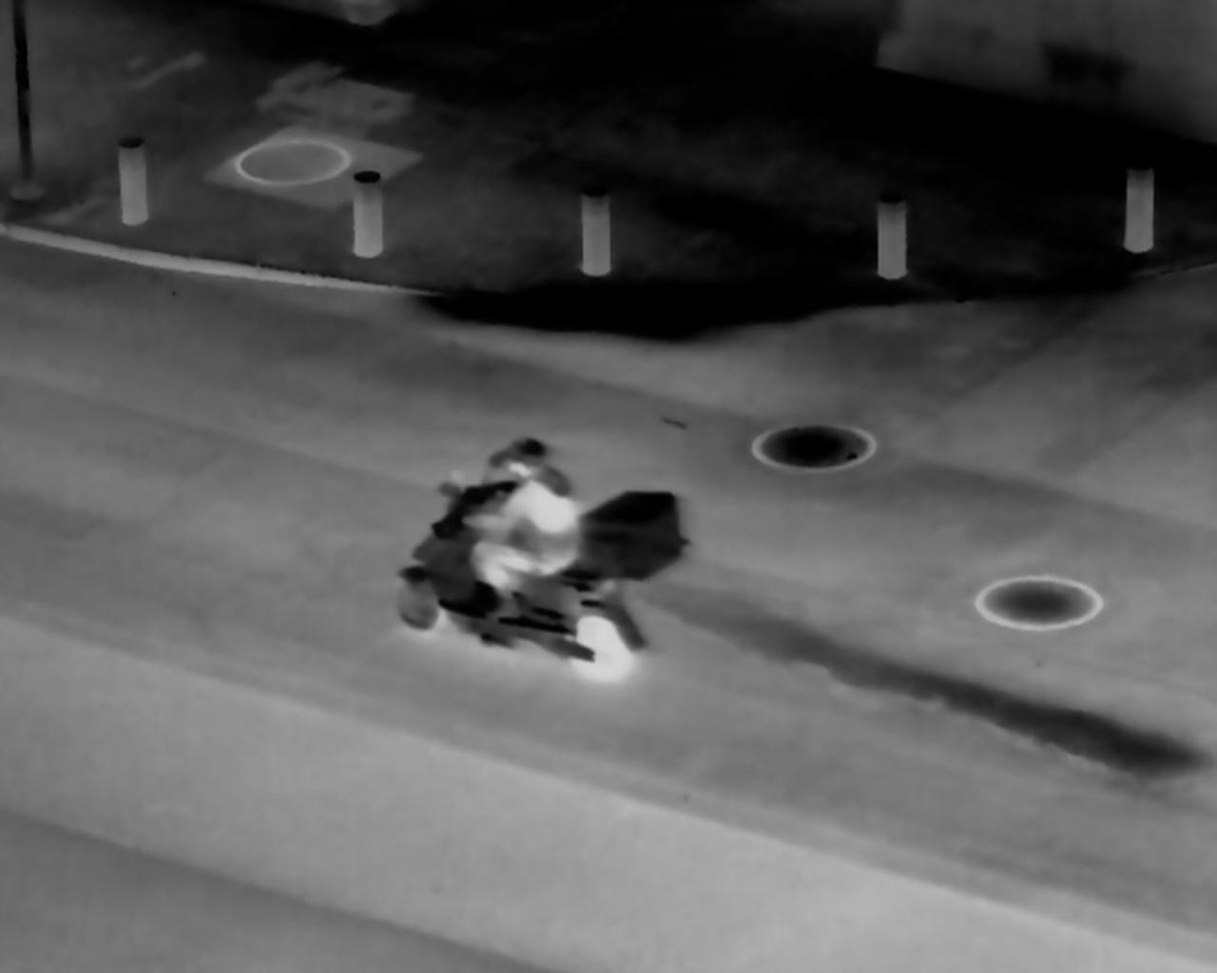person: (462, 429, 578, 637)
